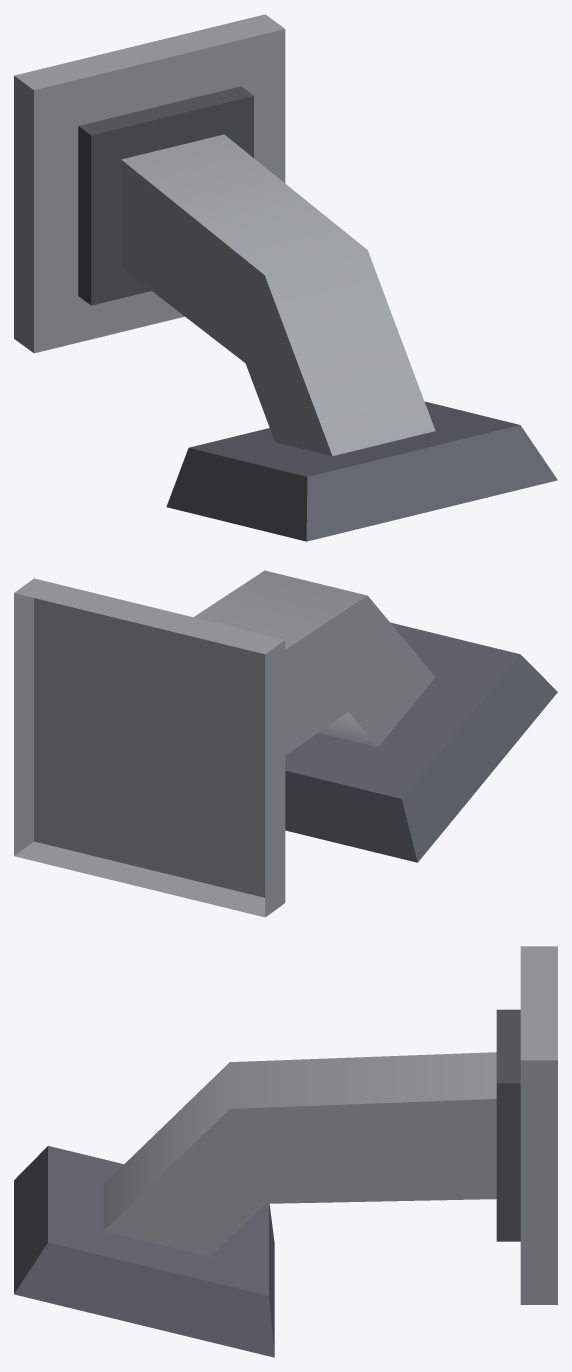
Rendered from Shower_1.fbx.
3 views of the same model, one above another, from view 1: azimuth 30°, elevation 25°; view 2: azimuth 150°, elevation 25°; view 3: azimuth 270°, elevation 25° (orthographic). The views are drawn at different scales.
Visible parts, largest first — view 1: polySurface1552; view 2: polySurface1552; view 3: polySurface1552.
Boxes of the visible parts, x1=… form: polySurface1552: x1=14, y1=14, x2=557, y2=541; polySurface1552: x1=14, y1=570, x2=557, y2=917; polySurface1552: x1=14, y1=946, x2=557, y2=1357.
Size of the model in its own units: 0.3 by 0.3648 by 0.6047.
1 material, 1 textured.
